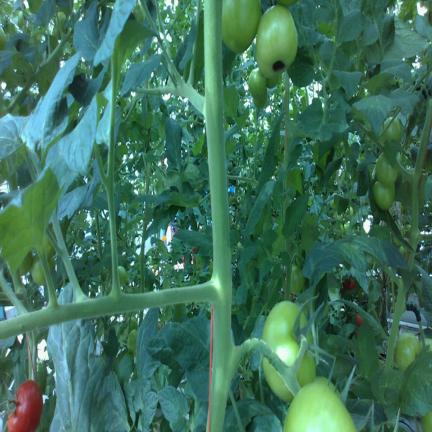6kp_peduncle: (207, 307, 296, 427), (392, 289, 425, 338)
6kp_petiole: (146, 225, 231, 368), (184, 46, 225, 169), (394, 146, 426, 212)
MainStem: (204, 0, 232, 431), (409, 98, 432, 251), (384, 277, 406, 371), (26, 331, 37, 383), (95, 215, 102, 260), (283, 127, 290, 170), (140, 242, 145, 293), (285, 71, 289, 119)
tomato: (262, 301, 315, 402), (284, 378, 356, 431), (255, 5, 298, 77), (222, 0, 261, 52), (7, 380, 43, 431), (395, 332, 421, 370), (376, 153, 398, 187), (373, 181, 395, 210), (248, 68, 266, 98), (30, 254, 46, 285), (290, 265, 304, 295), (385, 118, 401, 142), (127, 329, 137, 353), (253, 92, 267, 107), (266, 73, 279, 88), (118, 266, 126, 285)
